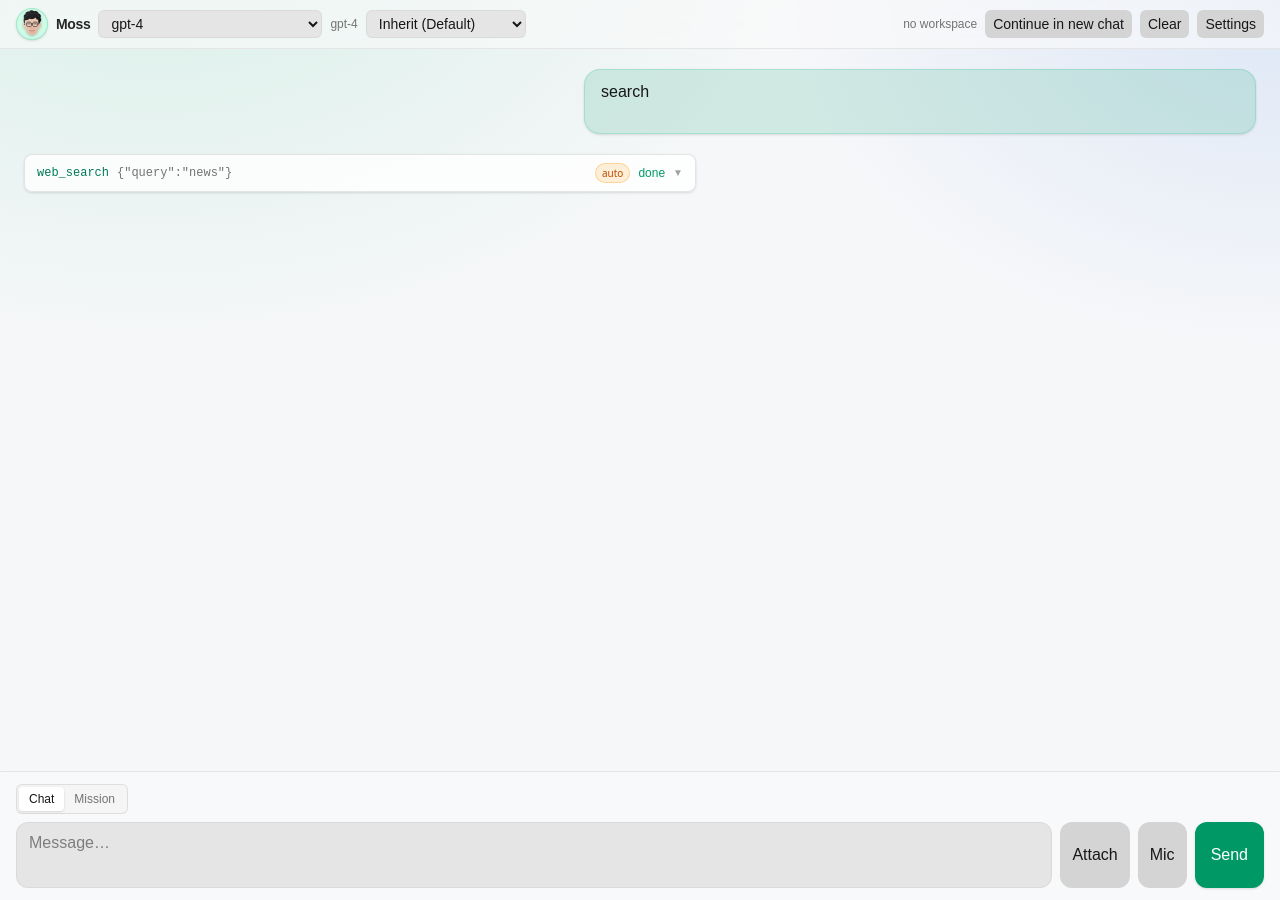
Scenario: ChatPanel › renders completed tool history collapsed and expandable
Click the text "web_search": click(73, 173) [37, 165, 109, 181]
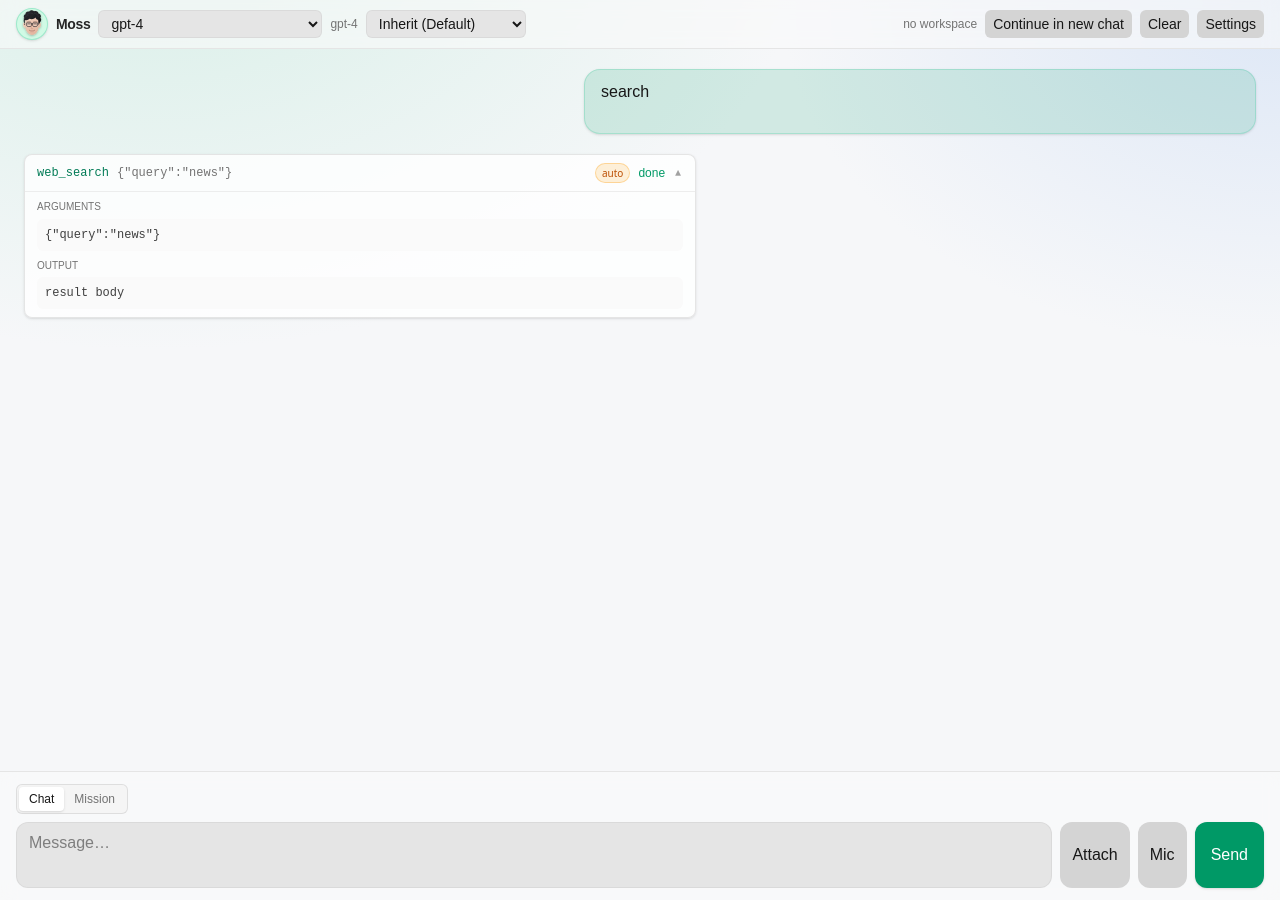
expect the text "result body" is shown: met, box [37, 277, 683, 309]
